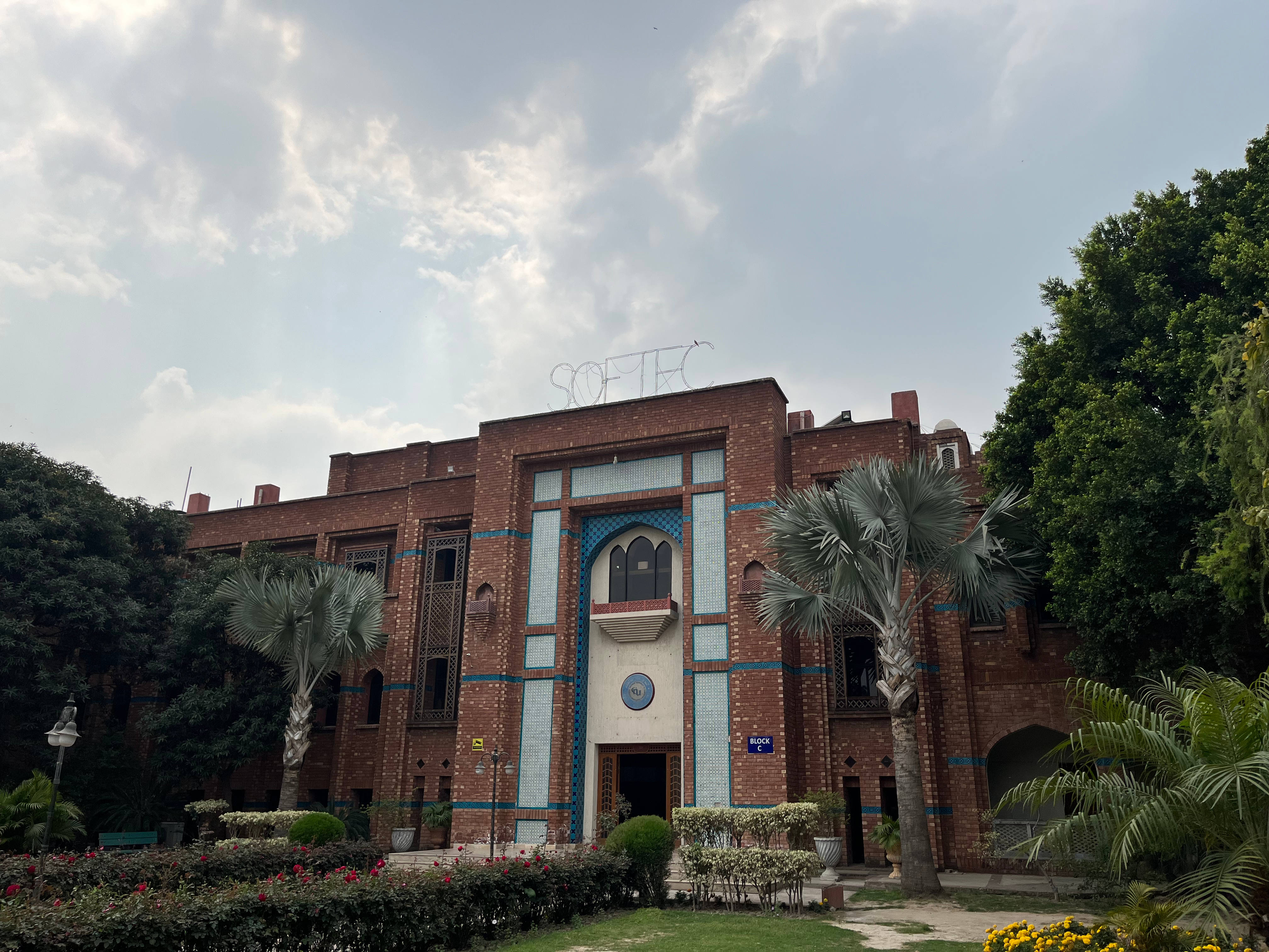Block C: (42, 377, 1222, 867)
